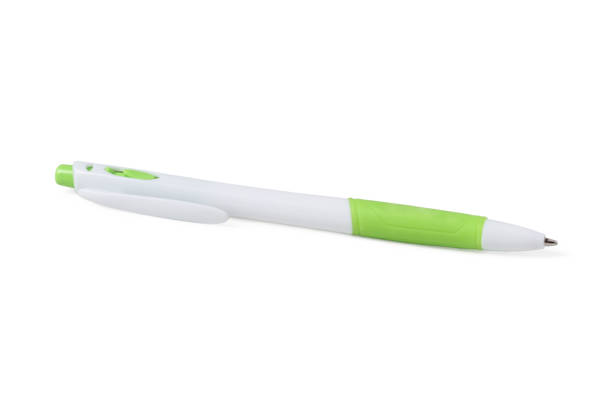pen: (49, 158, 567, 266)
